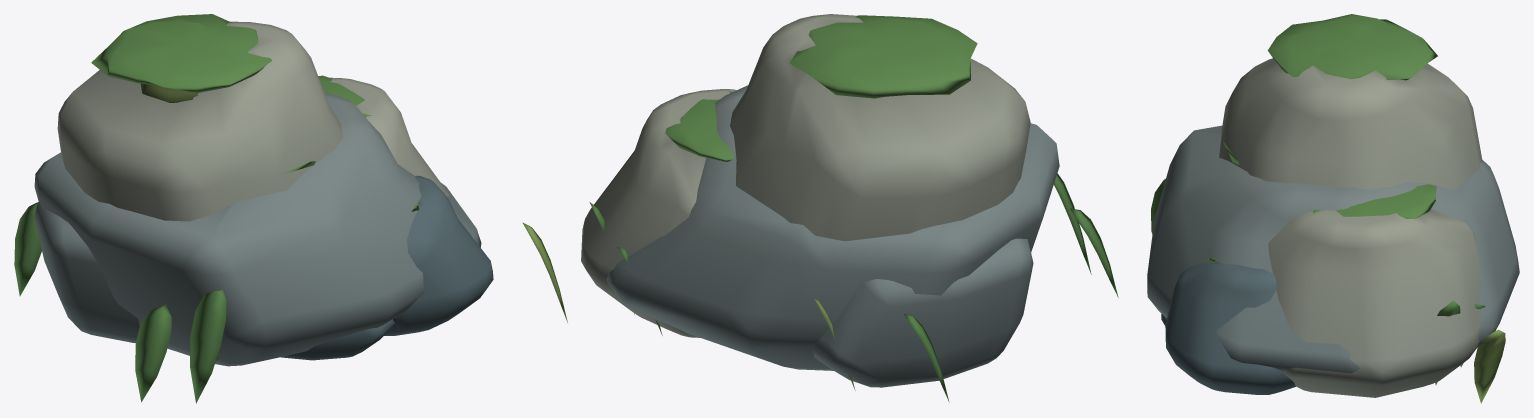
Rendered from rock.glb.
3 views of the same model, side by side, from view 1: azimuth 30°, elevation 25°; view 2: azimuth 150°, elevation 25°; view 3: azimuth 270°, elevation 25° (orthographic). The views are drawn at different scales.
Visible parts, largest first — view 1: Rock_broad_boulder, Rock_tall_split_boulder, Rock_moss_cushion.003, Rock_broken_shard, Rock_low_cluster_left, Rock_low_cluster_right, decor_Grass.002, decor_Grass, Rock_small_front_pebble, decor_Grass.003, Rock_moss_cushion.005, Rock_moss_cushion.012; view 2: Rock_broad_boulder, Rock_tall_split_boulder, Rock_low_cluster_left, Rock_low_cluster_right, Rock_moss_cushion.003, Rock_moss_cushion.012, decor_Grass, decor_Grass.002, decor_Grass.003, decor_Grass.007; view 3: Rock_low_cluster_right, Rock_broad_boulder, Rock_tall_split_boulder, Rock_broken_shard, Rock_moss_cushion.003, Rock_moss_cushion.012, decor_Grass.007.
Part boxes in pixels (x1=…): Rock_broad_boulder: x1=34, y1=93, x2=481, y2=366; Rock_tall_split_boulder: x1=57, y1=21, x2=343, y2=221; Rock_moss_cushion.003: x1=91, y1=14, x2=271, y2=92; Rock_broken_shard: x1=384, y1=175, x2=493, y2=335; Rock_low_cluster_left: x1=34, y1=201, x2=139, y2=342; Rock_low_cluster_right: x1=330, y1=77, x2=449, y2=196; decor_Grass.002: x1=190, y1=289, x2=226, y2=403; decor_Grass: x1=135, y1=304, x2=171, y2=402; Rock_small_front_pebble: x1=281, y1=319, x2=394, y2=360; decor_Grass.003: x1=14, y1=202, x2=41, y2=296; Rock_moss_cushion.005: x1=140, y1=83, x2=198, y2=102; Rock_moss_cushion.012: x1=318, y1=75, x2=371, y2=117; Rock_broad_boulder: x1=606, y1=85, x2=1059, y2=370; Rock_tall_split_boulder: x1=730, y1=14, x2=1030, y2=241; Rock_low_cluster_left: x1=812, y1=238, x2=1033, y2=387; Rock_low_cluster_right: x1=581, y1=89, x2=736, y2=337; Rock_moss_cushion.003: x1=789, y1=15, x2=977, y2=98; Rock_moss_cushion.012: x1=665, y1=91, x2=734, y2=161; decor_Grass: x1=1070, y1=208, x2=1118, y2=297; decor_Grass.002: x1=1054, y1=173, x2=1091, y2=274; decor_Grass.003: x1=904, y1=313, x2=949, y2=402; decor_Grass.007: x1=522, y1=222, x2=567, y2=322; Rock_low_cluster_right: x1=1268, y1=209, x2=1480, y2=397; Rock_broad_boulder: x1=1147, y1=125, x2=1519, y2=373; Rock_tall_split_boulder: x1=1219, y1=58, x2=1482, y2=190; Rock_broken_shard: x1=1165, y1=261, x2=1295, y2=394; Rock_moss_cushion.003: x1=1267, y1=14, x2=1437, y2=80; Rock_moss_cushion.012: x1=1312, y1=184, x2=1436, y2=218; decor_Grass.007: x1=1474, y1=329, x2=1505, y2=403.
Bounding box in the file's own units: 0.8825 × 0.58 × 0.7488.
